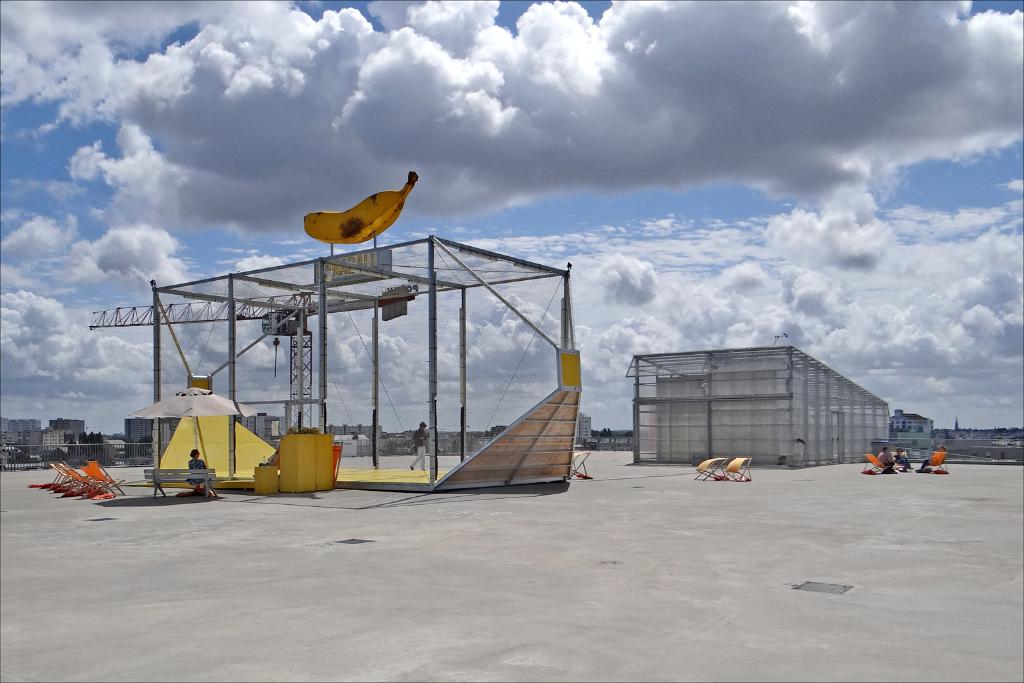Banana: (302, 169, 412, 245)
